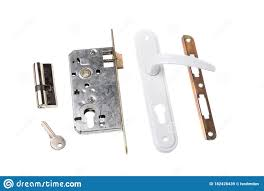key: (35, 116, 71, 155)
